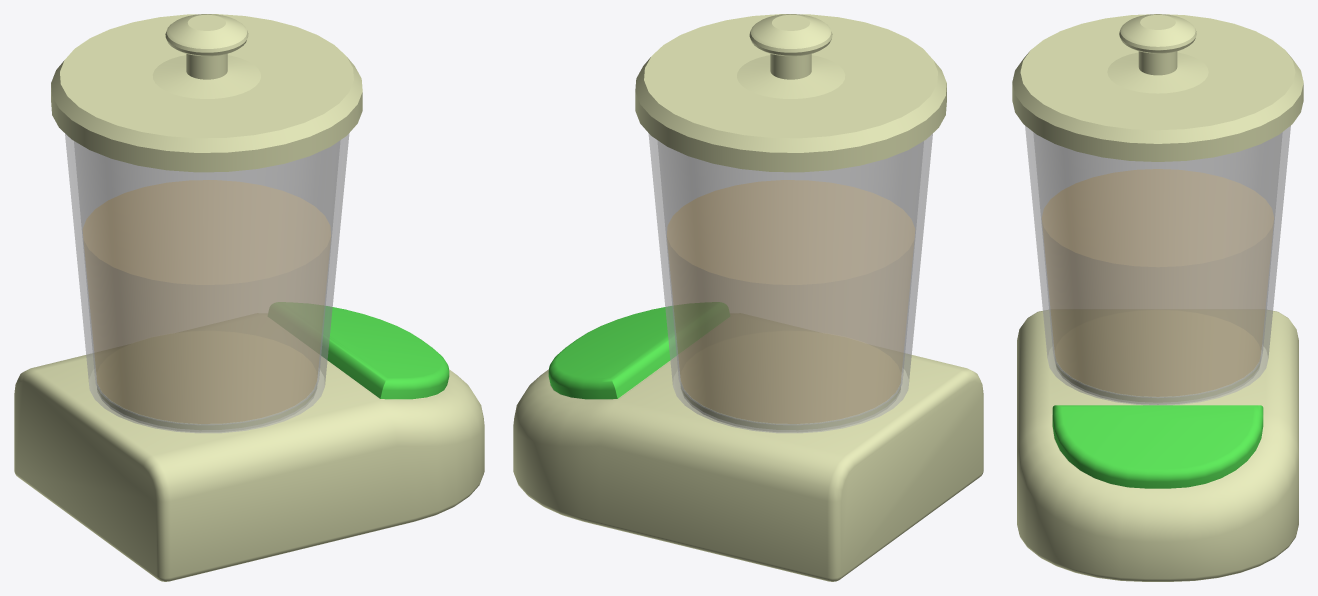
File: Mixer.glb
The picture shows the model from 3 angles, left to right: view 1: azimuth 30°, elevation 25°; view 2: azimuth 150°, elevation 25°; view 3: azimuth 270°, elevation 25°; orthographic projection. The views are drawn at different scales.
Visible parts, largest first — view 1: Base, Glass, Juice, Lid, Button; view 2: Base, Glass, Juice, Lid, Button; view 3: Base, Glass, Juice, Lid, Button.
Boxes of the visible parts, x1,y1,x2,y2 form: Base: (14, 313, 484, 581); Glass: (65, 133, 349, 433); Juice: (83, 180, 330, 423); Lid: (51, 14, 362, 172); Button: (268, 302, 449, 399); Base: (513, 313, 983, 581); Glass: (648, 133, 932, 433); Juice: (667, 180, 914, 423); Lid: (635, 14, 946, 172); Button: (548, 302, 729, 399); Base: (1017, 310, 1298, 581); Glass: (1025, 126, 1290, 405); Juice: (1042, 169, 1273, 396); Lid: (1012, 14, 1303, 161); Button: (1052, 405, 1263, 488).
Size of the model in its own units: 0.522 by 0.614 by 0.3635.
